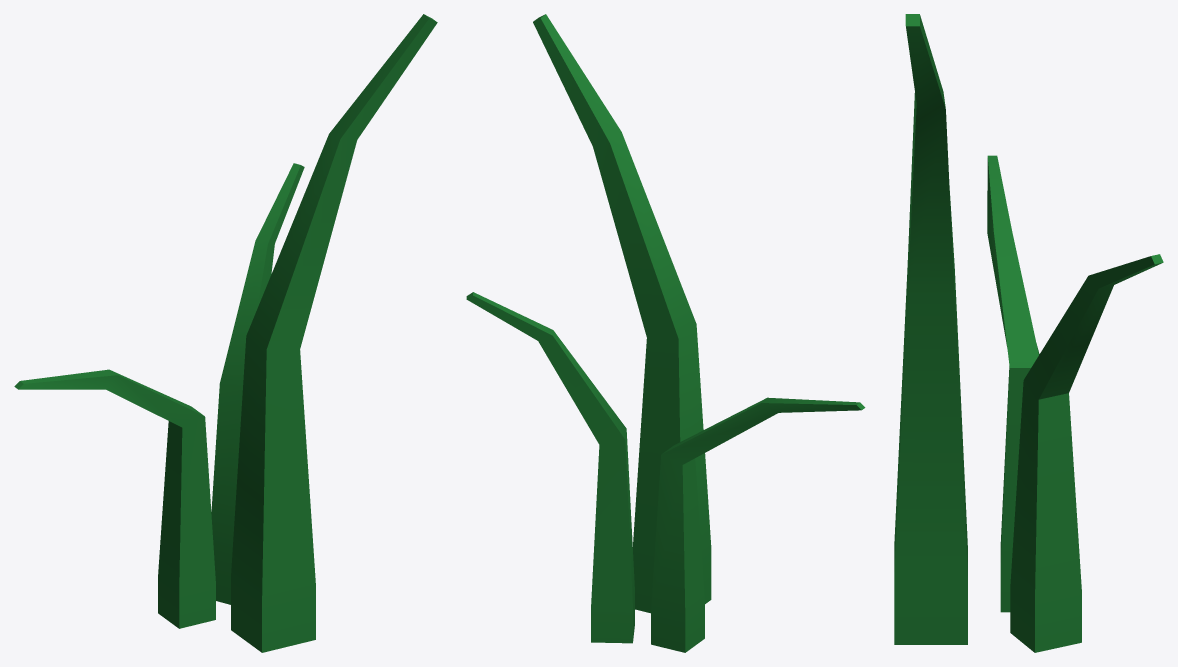
The model's file is grass_02.fbx.
The picture shows the model from 3 angles, left to right: view 1: azimuth 30°, elevation 25°; view 2: azimuth 150°, elevation 25°; view 3: azimuth 270°, elevation 25°; orthographic projection. The views are drawn at different scales.
Visible parts, largest first — view 1: grass_02; view 2: grass_02; view 3: grass_02.
Boxes of the visible parts, x1,y1,x2,y2 form: grass_02: [14, 14, 437, 652]; grass_02: [466, 14, 865, 652]; grass_02: [894, 14, 1163, 652].
Bounding box in the file's own units: 34.29 × 50.13 × 17.5.
